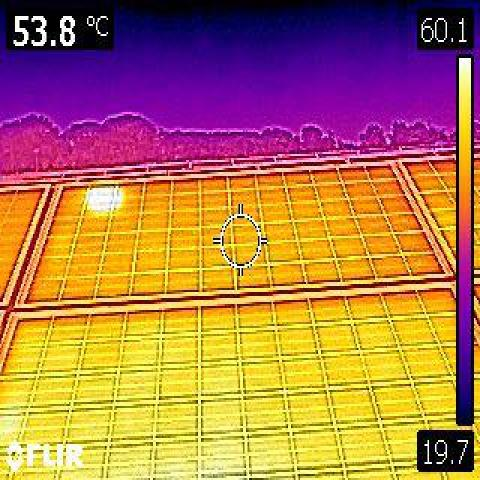fault: (89, 185, 115, 212)
